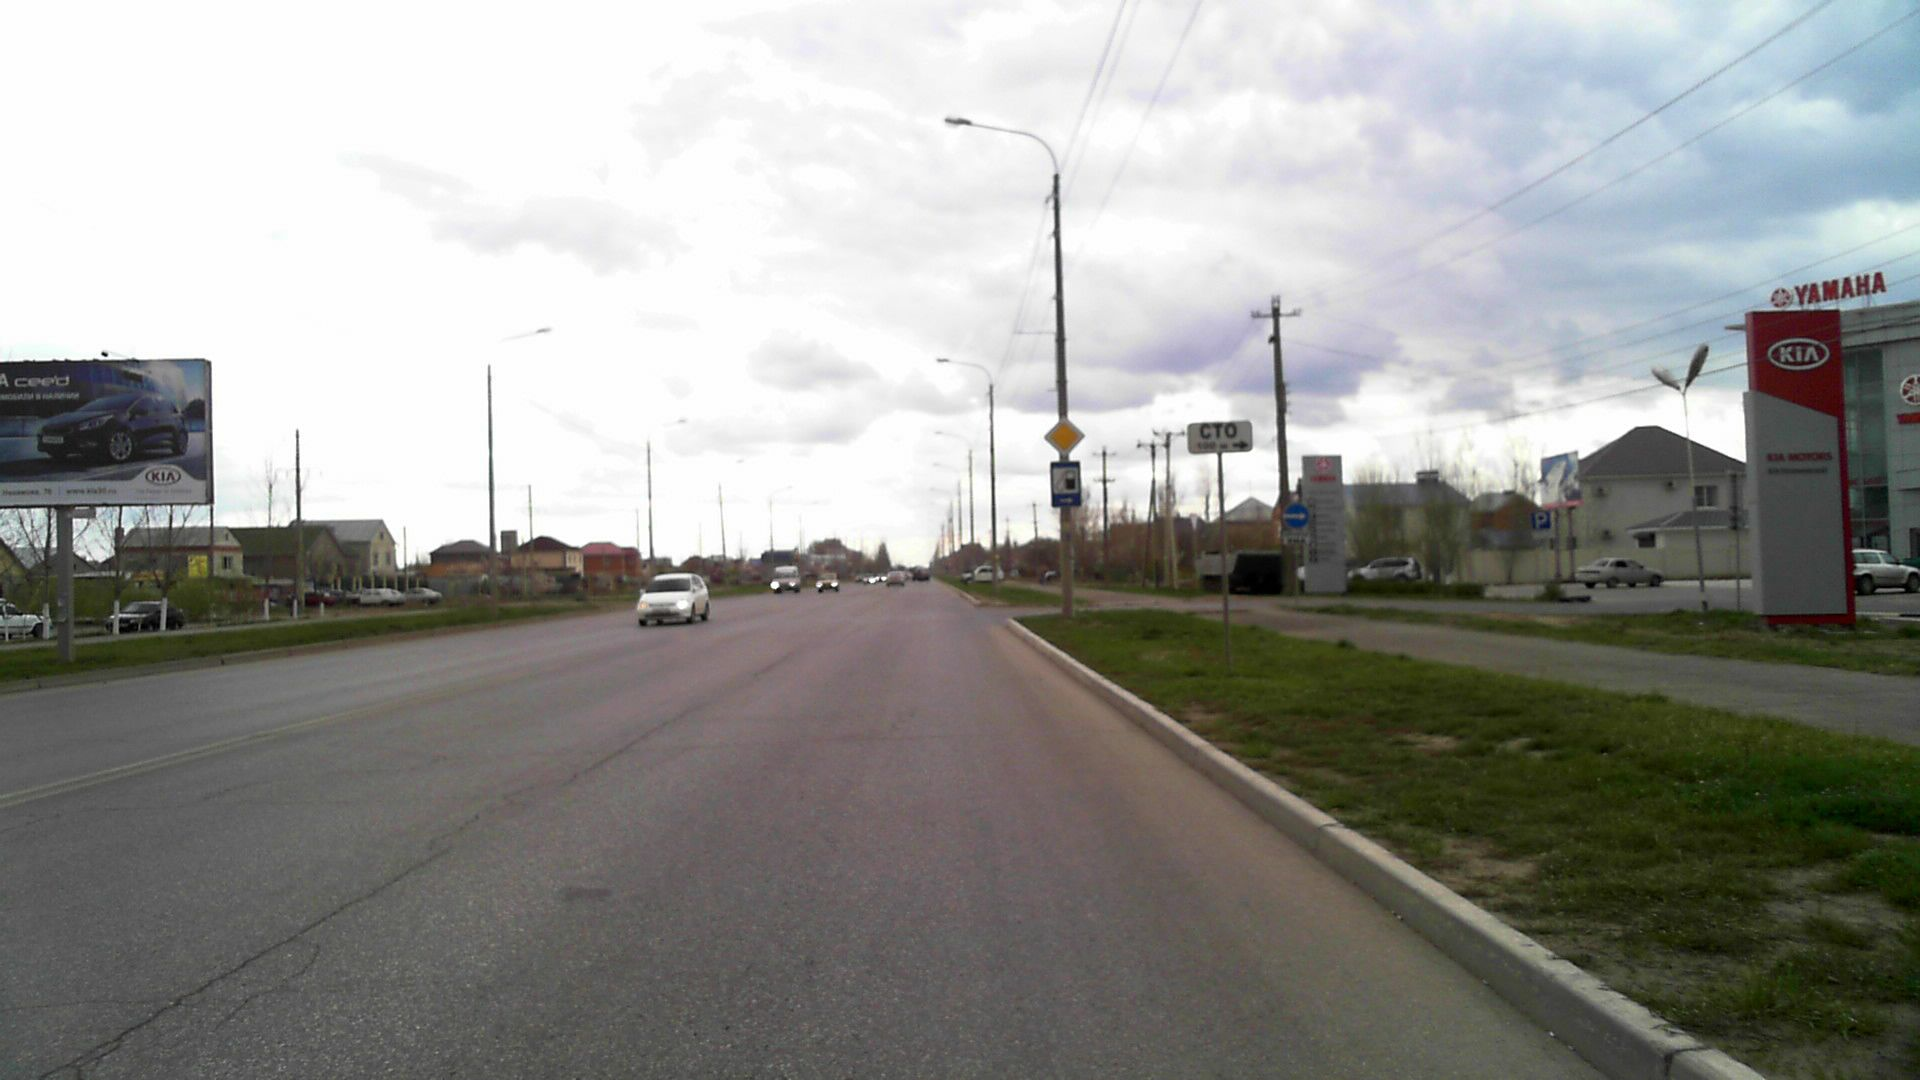Turn Right: (1283, 502, 1309, 529)
